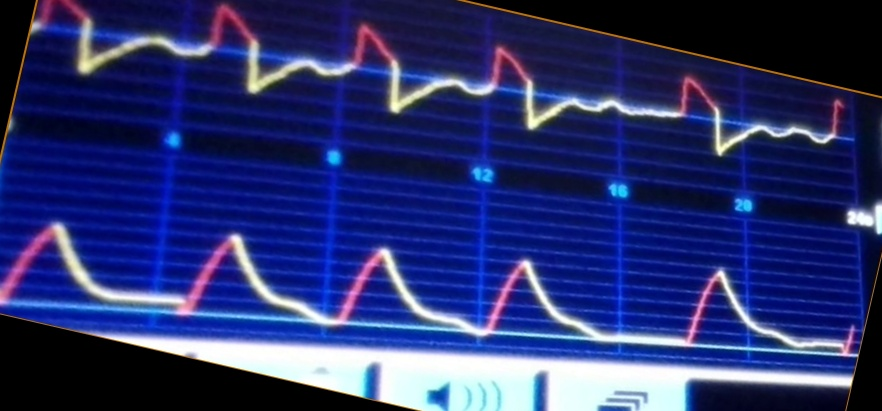Ineffective_effort Flow: (34, 3, 847, 158)
Ineffective_effort Volume: (2, 215, 853, 352)
